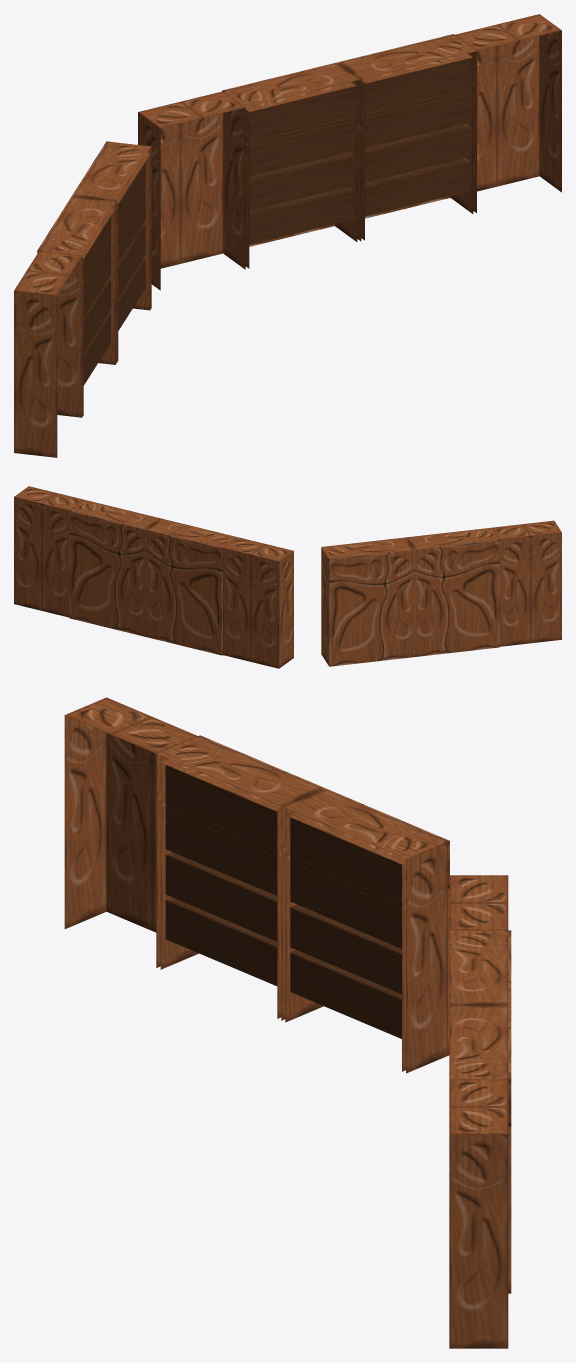
The model's file is EKH_GROTTO_PS_GR_BOOKC736__GX.fbx.
The picture shows the model from 3 angles, top to bottom: view 1: azimuth 30°, elevation 25°; view 2: azimuth 150°, elevation 25°; view 3: azimuth 270°, elevation 25°; orthographic projection. The views are drawn at different scales.
Parts seen in each view (by area): view 1: EKH_GROTTO_PS_GR_BOOKC736__GX; view 2: EKH_GROTTO_PS_GR_BOOKC736__GX; view 3: EKH_GROTTO_PS_GR_BOOKC736__GX.
Boxes of the visible parts, bbox=[...] form: EKH_GROTTO_PS_GR_BOOKC736__GX: bbox=[14, 14, 561, 457]; EKH_GROTTO_PS_GR_BOOKC736__GX: bbox=[14, 486, 561, 668]; EKH_GROTTO_PS_GR_BOOKC736__GX: bbox=[64, 697, 511, 1348].
Size of the model in its own units: 91792 by 21000 by 39646.
6 materials, 6 textured.
